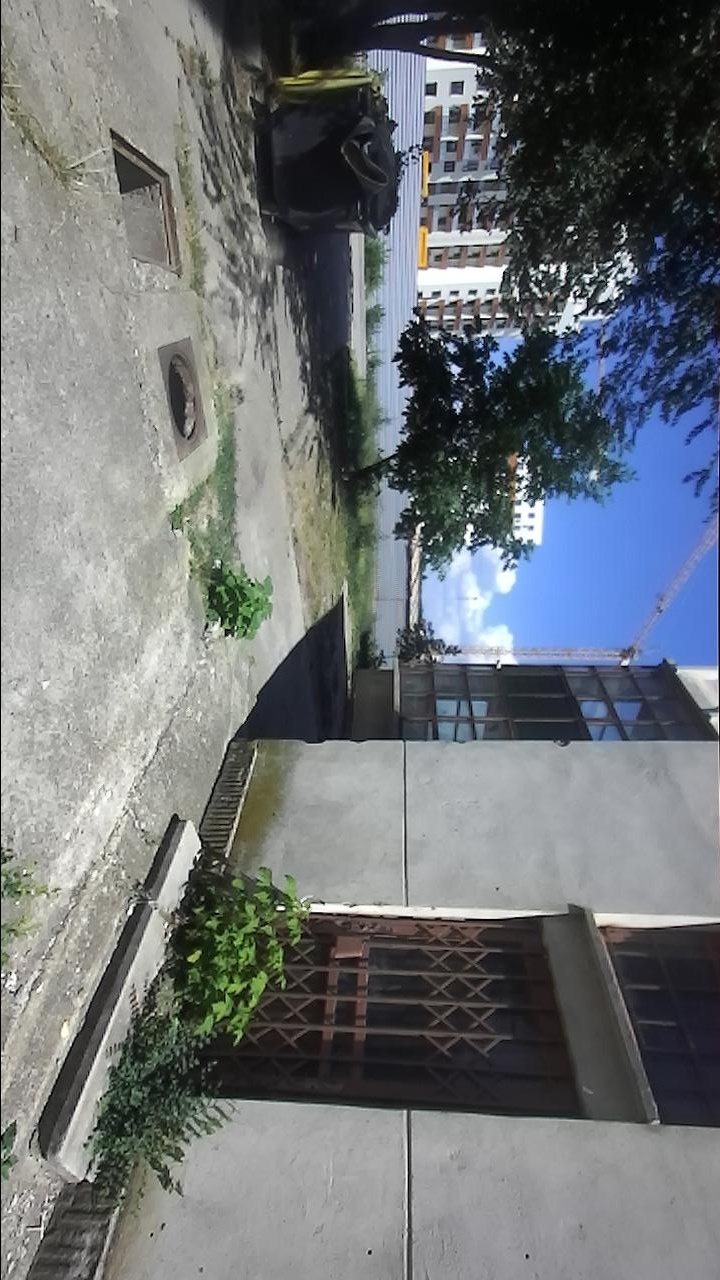drain: (104, 119, 184, 276), (163, 346, 205, 450)
